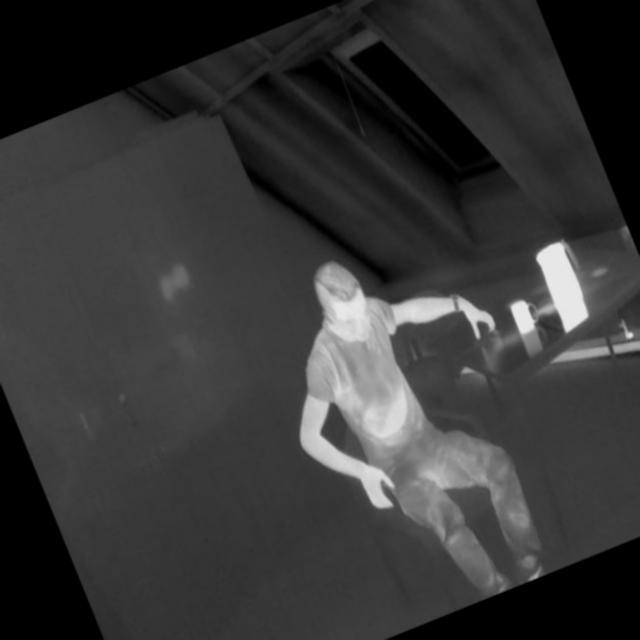person: (240, 213, 581, 640)
